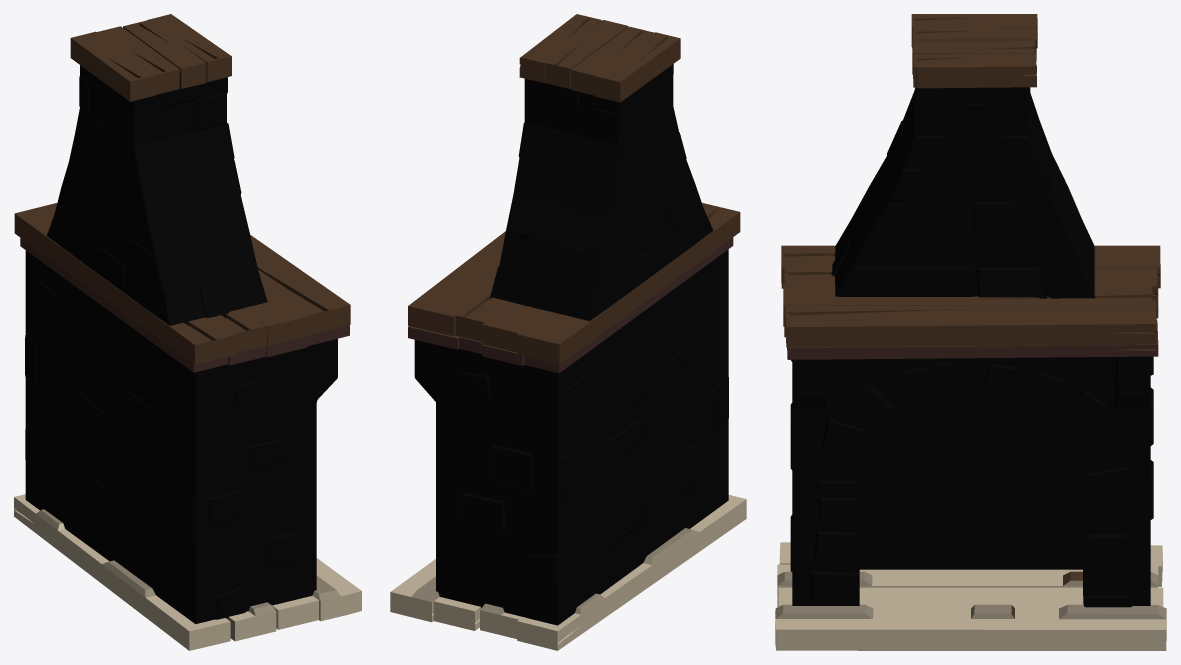
File: 1fr'place1111 1.fbx
3 views of the same model, side by side, from view 1: azimuth 30°, elevation 25°; view 2: azimuth 150°, elevation 25°; view 3: azimuth 270°, elevation 25° (orthographic). The views are drawn at different scales.
Visible parts, largest first — view 1: Nightstand.001; view 2: Nightstand.001; view 3: Nightstand.001.
Boxes of the visible parts, bbox=[...] form: Nightstand.001: bbox=[14, 14, 361, 650]; Nightstand.001: bbox=[390, 14, 746, 650]; Nightstand.001: bbox=[775, 14, 1166, 650].
Bounding box in the file's own units: 1.76 × 5.14 × 3.31.
